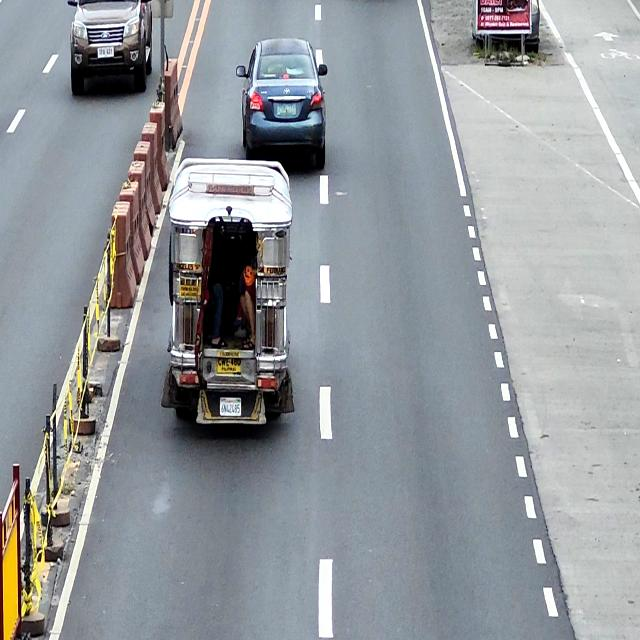Car: (236, 38, 328, 171), (66, 0, 153, 95)
Jeep: (165, 157, 293, 430)
License-Plate: (216, 358, 242, 374), (277, 103, 296, 116), (97, 47, 114, 57)
